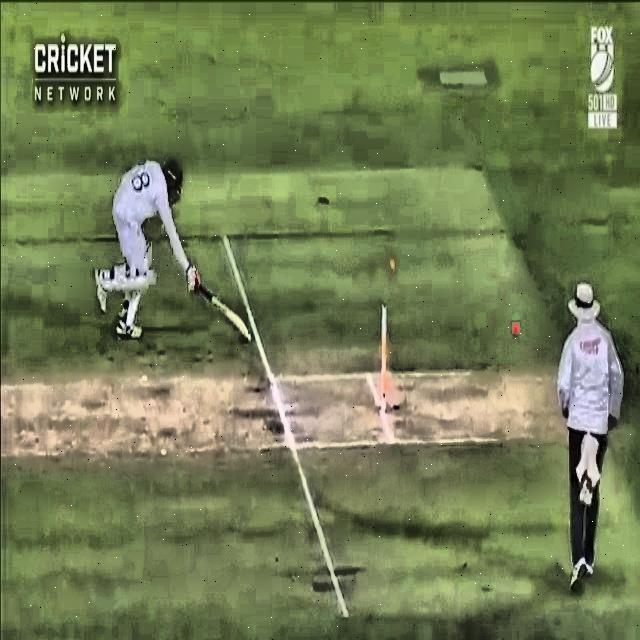Ball: (493, 307, 529, 347)
Bat: (176, 262, 255, 348)
Dis_Wicket: (370, 250, 405, 409)
Pitch_Line: (221, 234, 349, 618)
